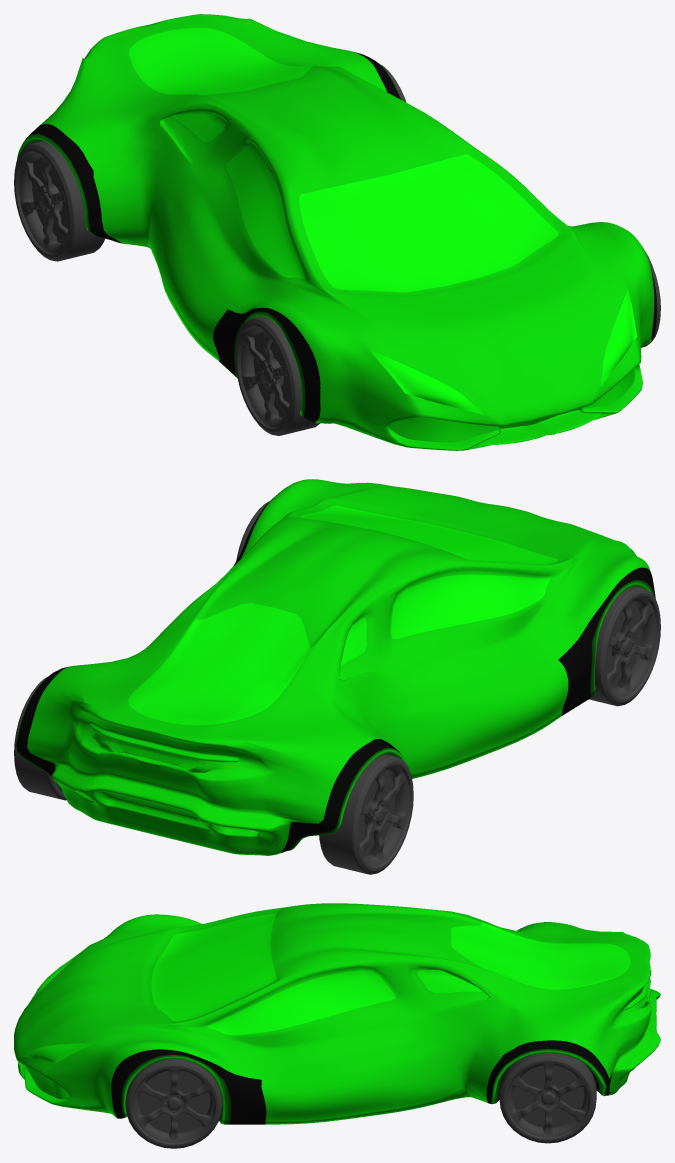
File: Car.fbx
The picture shows the model from 3 angles, top to bottom: view 1: azimuth 30°, elevation 25°; view 2: azimuth 150°, elevation 25°; view 3: azimuth 270°, elevation 25°; orthographic projection. The views are drawn at different scales.
Visible parts, largest first — view 1: Car, tiretest (×2), Cylinder001 (×2), Disk1 (×2); view 2: Car, tiretest (×3), Cylinder001 (×2), Disk1 (×2); view 3: Car, Cylinder001 (×2), tiretest (×2), Disk1 (×2).
Boxes of the visible parts, x1,y1,x2,y2 form: Car: (17, 14, 656, 450); tiretest (×2): (14, 140, 319, 435); Cylinder001 (×2): (19, 152, 289, 427); Disk1 (×2): (32, 157, 289, 417); Car: (16, 479, 655, 855); tiretest (×3): (14, 586, 660, 874); Cylinder001 (×2): (359, 597, 656, 865); Disk1 (×2): (359, 602, 642, 856); Car: (14, 903, 660, 1124); Cylinder001 (×2): (133, 1063, 588, 1142); tiretest (×2): (125, 1053, 596, 1148); Disk1 (×2): (138, 1066, 583, 1132).
Bounding box in the file's own units: 168 × 82.91 × 319.
